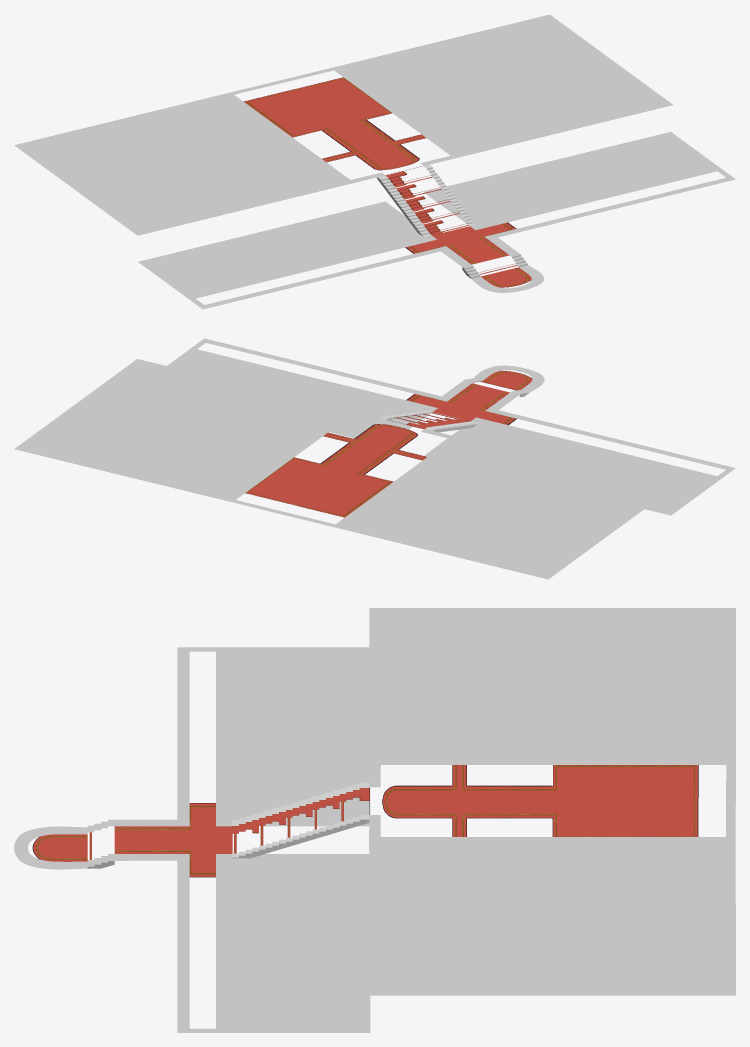
Rendered from Suelo.fbx.
3 views of the same model, one above another, from view 1: azimuth 30°, elevation 25°; view 2: azimuth 150°, elevation 25°; view 3: azimuth 270°, elevation 25° (orthographic). The views are drawn at different scales.
Visible parts, largest first — view 1: Plane.004, Cube.001, Cube.016, Cube.003; view 2: Plane.004, Cube.001, Cube.016, Cube.003; view 3: Plane.004, Cube.001, Cube.016, Cube.003.
Part boxes in pixels (x1,y1,x2,y2): Plane.004: (14,14,672,235); Cube.001: (138,132,735,309); Cube.016: (243,77,531,287); Cube.003: (377,165,475,237); Plane.004: (14,359,671,579); Cube.001: (167,338,735,515); Cube.016: (245,370,532,517); Cube.003: (381,410,478,432); Plane.004: (369,608,735,995); Cube.001: (14,647,370,1032); Cube.016: (32,765,698,877); Cube.003: (232,782,369,858).
Bounding box in the file's own units: 5529 × 312 × 4355.
